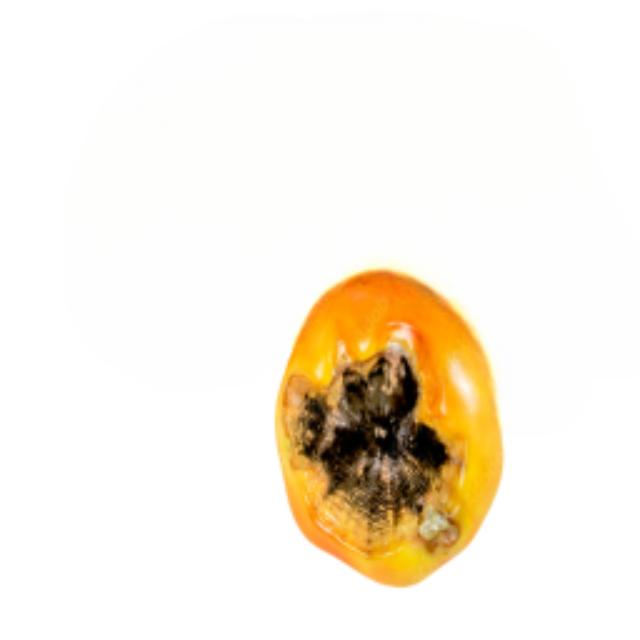defect: (271, 260, 512, 596)
